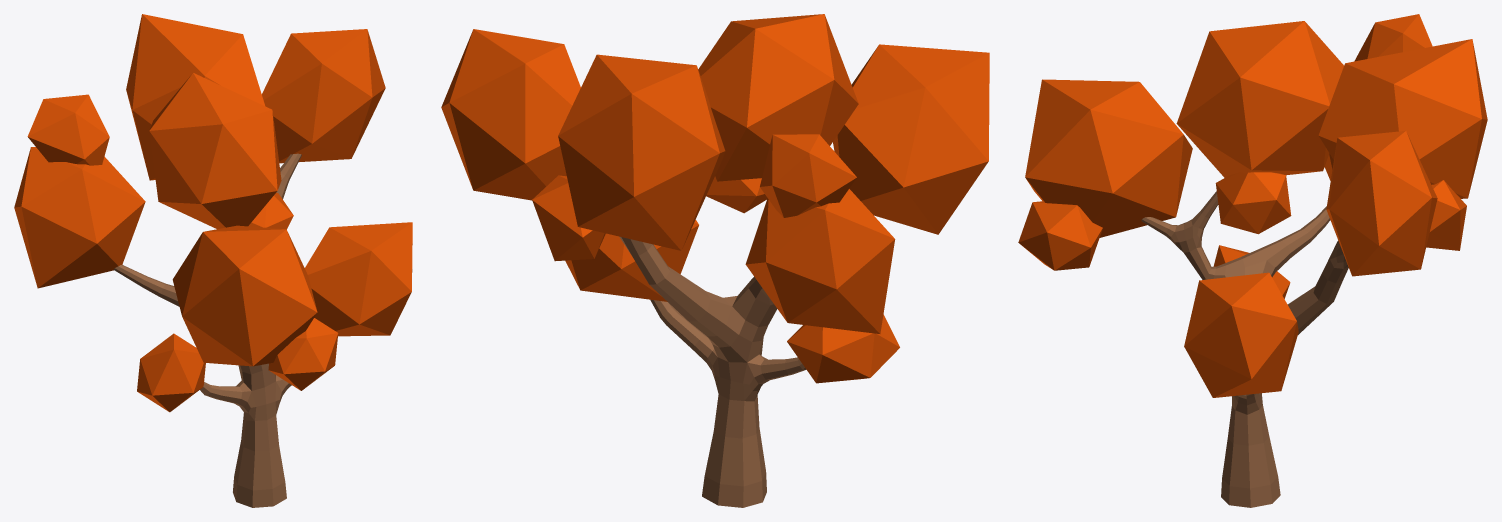
The model's file is tree-autumn-complete-2-006.glb.
3 renders of one model, left to right at view 1: azimuth 30°, elevation 25°; view 2: azimuth 150°, elevation 25°; view 3: azimuth 270°, elevation 25°, orthographic. The views are drawn at different scales.
Parts seen in each view (by area): view 1: TREE 2.003_394, TREE 2.002_395; view 2: TREE 2.003_394, TREE 2.002_395; view 3: TREE 2.003_394, TREE 2.002_395.
Part boxes in pixels (<box>): TREE 2.003_394: <box>14,14,412,412</box>; TREE 2.002_395: <box>114,153,301,507</box>; TREE 2.003_394: <box>441,14,989,383</box>; TREE 2.002_395: <box>619,236,806,507</box>; TREE 2.003_394: <box>1018,14,1487,397</box>; TREE 2.002_395: <box>1141,191,1348,507</box>.
Bounding box in the file's own units: 1.39 × 1.49 × 1.39.
